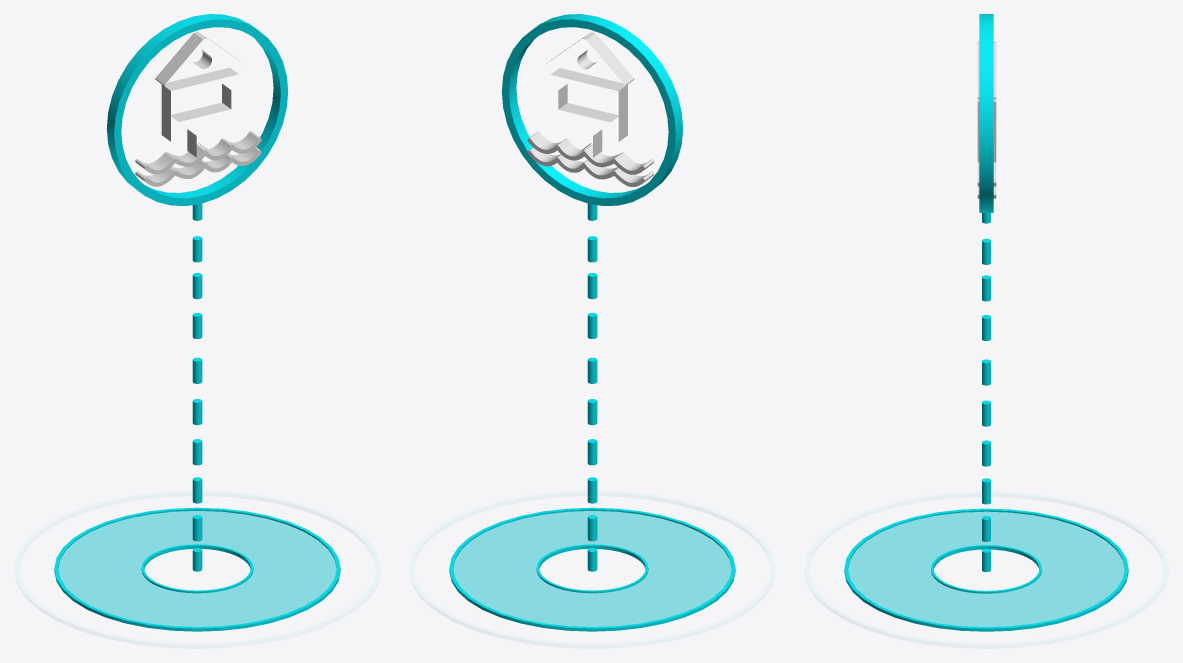
The model's file is shuiweizhan.gltf.
The picture shows the model from 3 angles, left to right: view 1: azimuth 30°, elevation 25°; view 2: azimuth 150°, elevation 25°; view 3: azimuth 270°, elevation 25°; orthographic projection.
Visible parts, largest first — view 1: Z_UP, shuiweizhan; view 2: Z_UP, shuiweizhan; view 3: Z_UP, shuiweizhan.
Boxes of the visible parts, bbox=[...] form: Z_UP: bbox=[54, 14, 340, 631]; shuiweizhan: bbox=[135, 32, 261, 186]; Z_UP: bbox=[449, 14, 735, 631]; shuiweizhan: bbox=[527, 32, 654, 186]; Z_UP: bbox=[844, 14, 1128, 631]; shuiweizhan: bbox=[977, 41, 996, 198].
Size of the model in its own units: 4.52 by 7.52 by 4.52.
